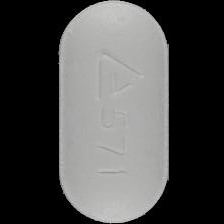10544-248: (0, 0, 224, 224)
